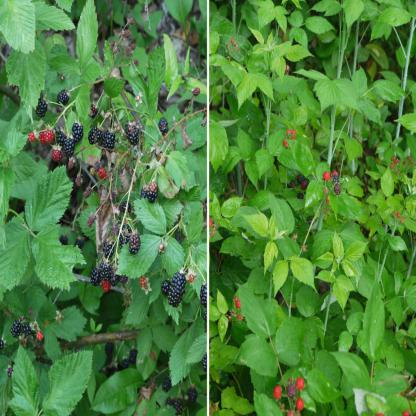raspberry leaf: (24, 162, 76, 237), (42, 348, 96, 415), (31, 225, 81, 294), (0, 212, 35, 290), (113, 231, 168, 279), (0, 1, 39, 57), (78, 1, 101, 71)
